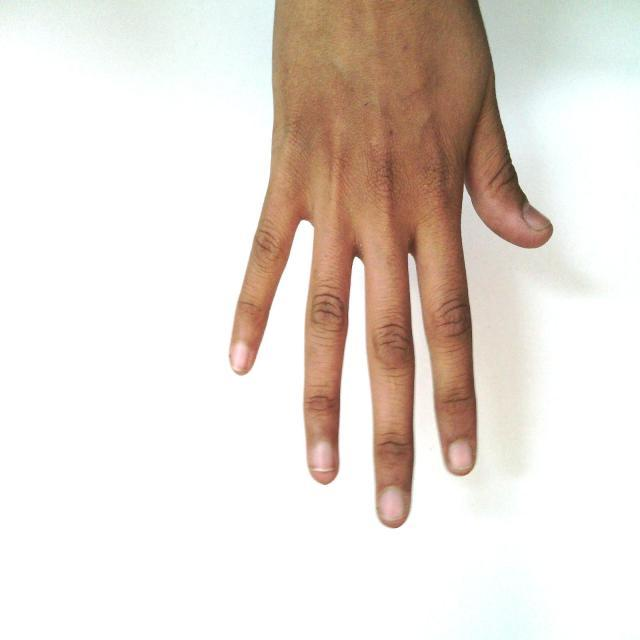Fingernail: (379, 488, 404, 521), (449, 441, 472, 472), (524, 204, 551, 230), (310, 442, 334, 470), (233, 344, 249, 372)
